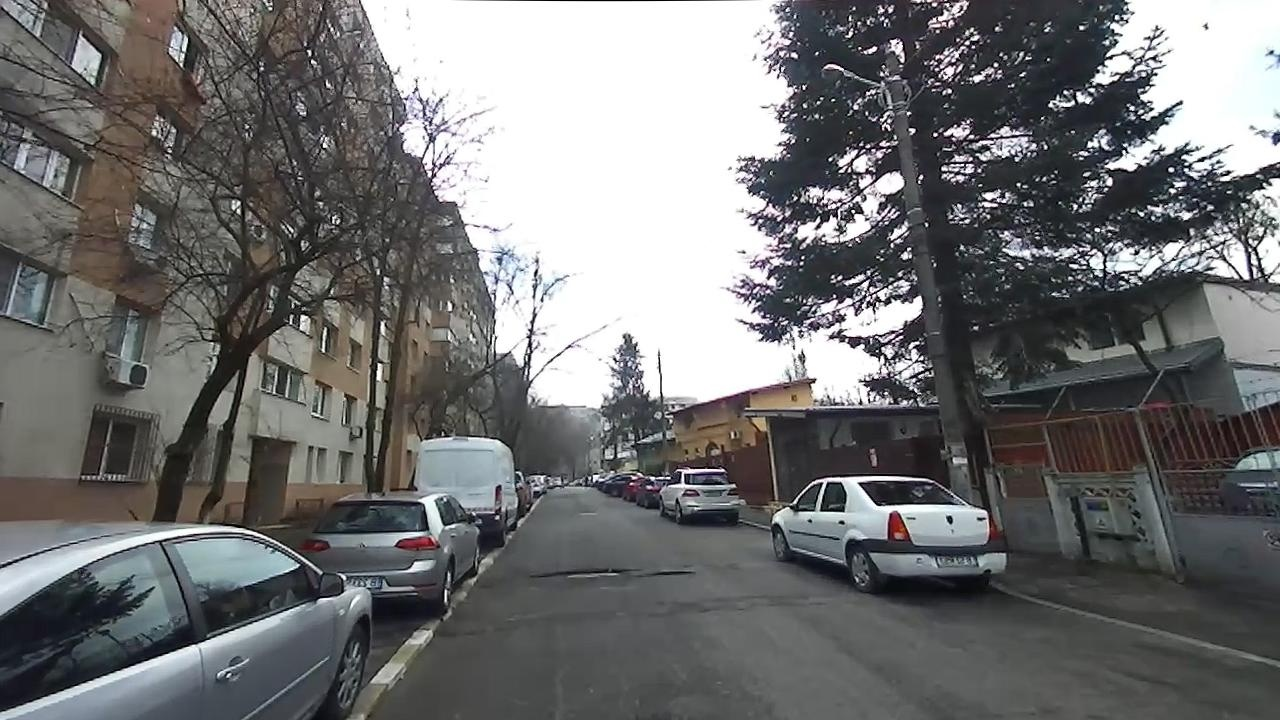pothole: (532, 566, 622, 577), (644, 570, 694, 577)
